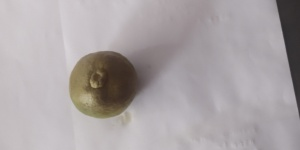BAD: (71, 52, 137, 119)
